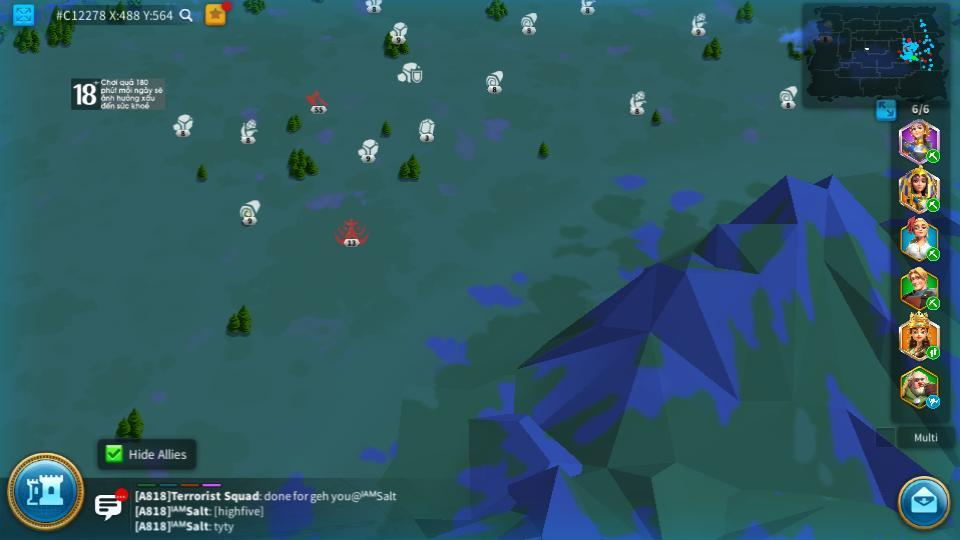gem-z-out: (416, 118, 436, 140)
march_idle: (925, 394, 942, 408)
march_marching: (925, 197, 941, 212), (925, 345, 941, 359), (925, 149, 941, 162), (923, 248, 940, 260), (925, 297, 942, 308)
